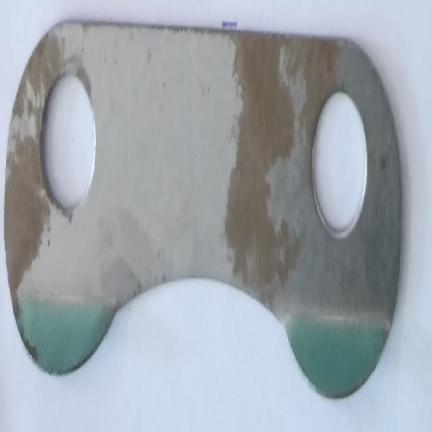karat: (225, 38, 345, 305), (2, 128, 49, 289)
